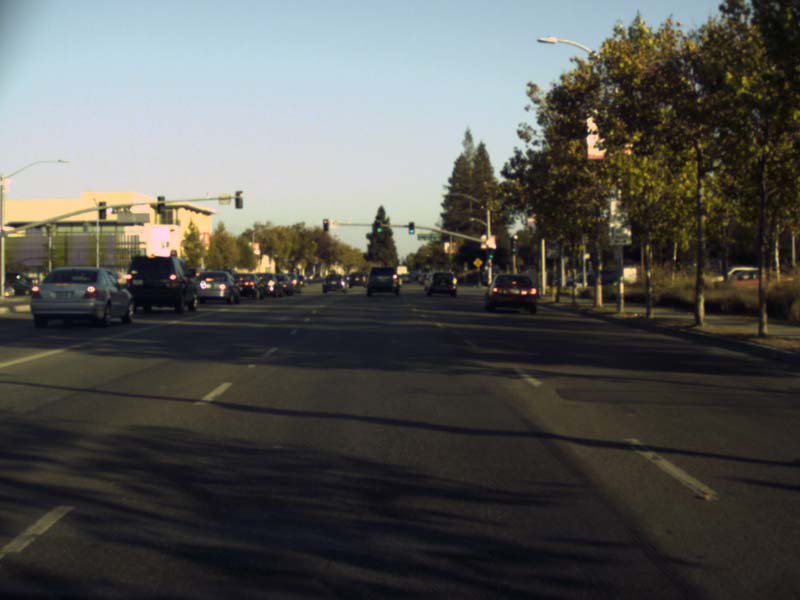Green: (407, 220, 415, 234), (375, 220, 382, 234), (510, 240, 517, 254), (487, 248, 494, 259)
Red: (170, 250, 176, 264), (322, 218, 328, 231)
